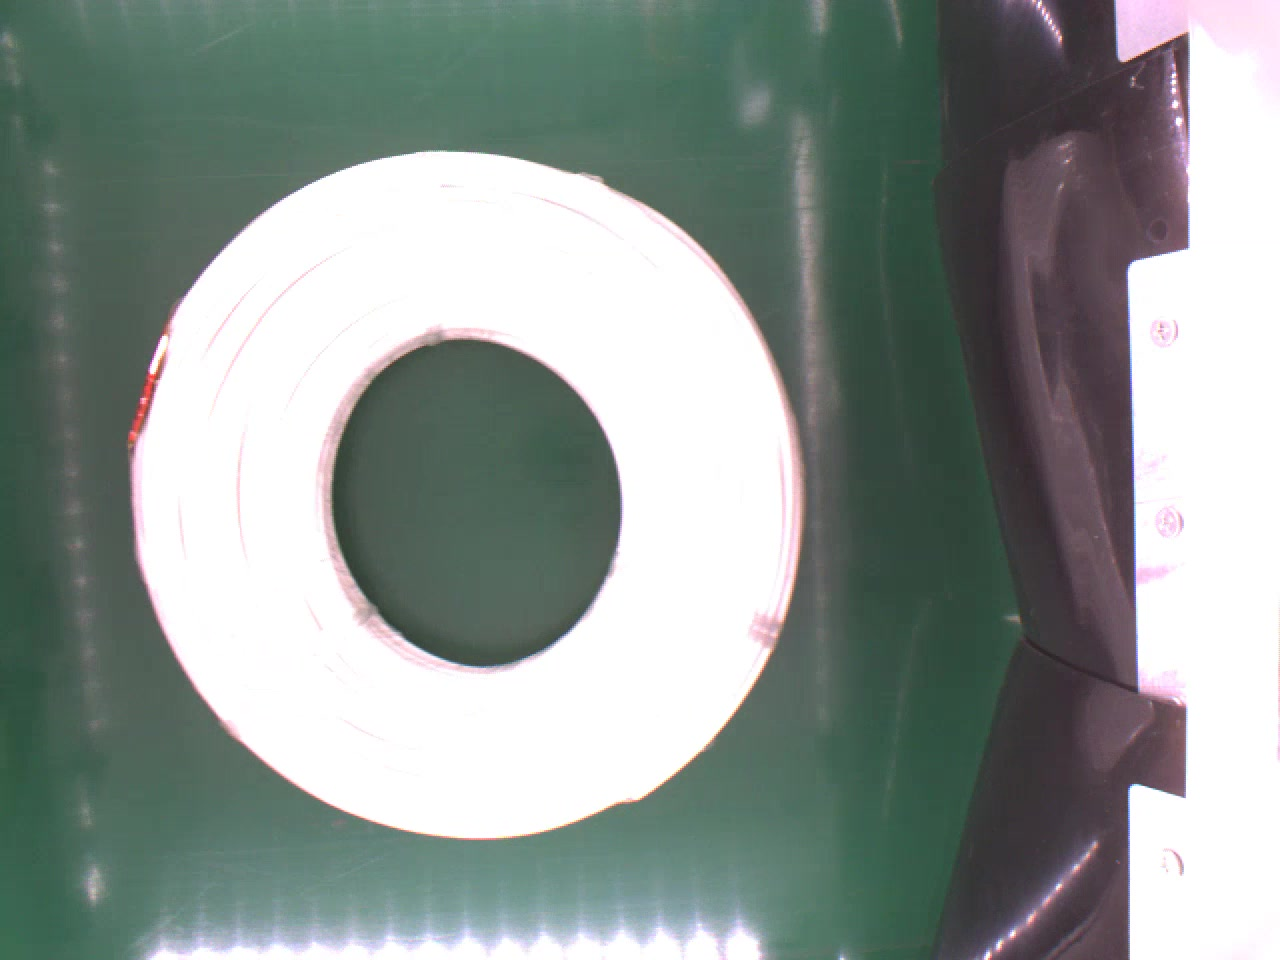white: (117, 143, 815, 849)
